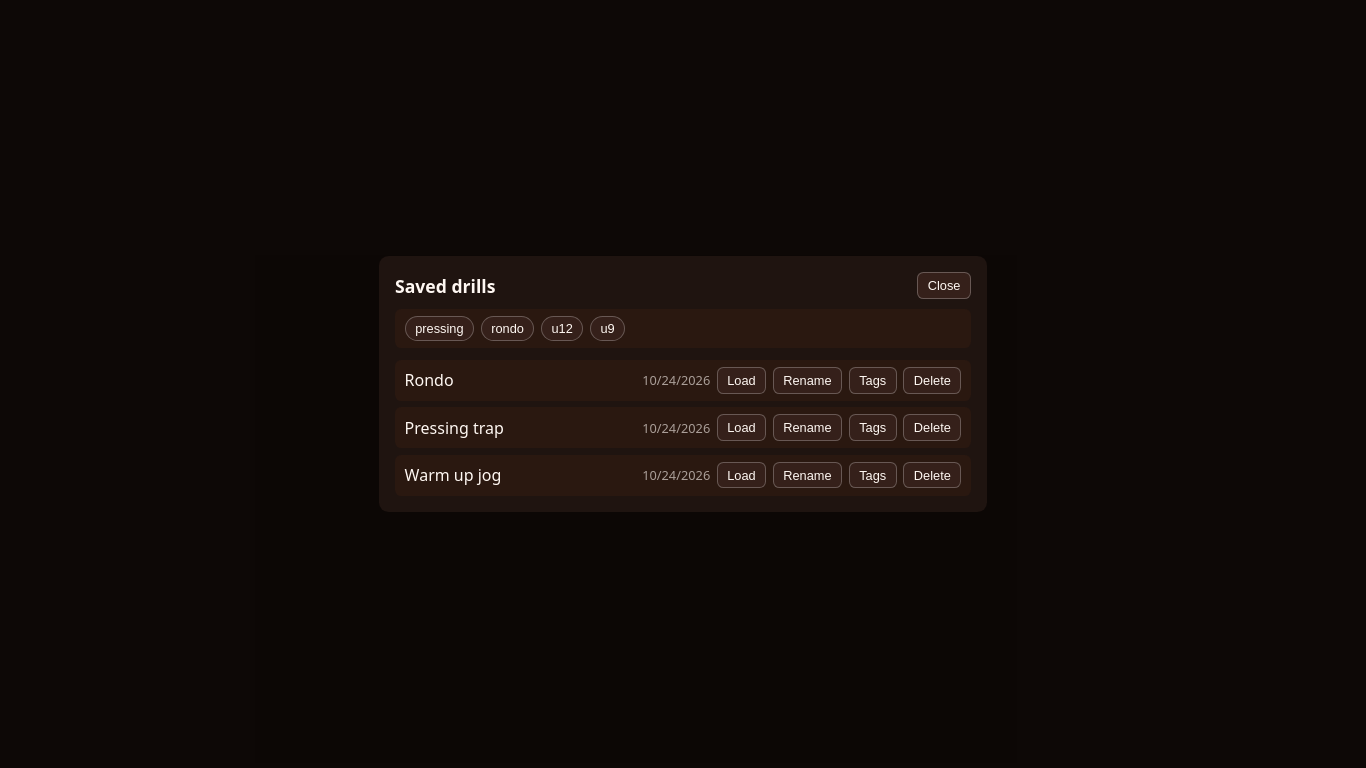
it: tags › keeps only the drill carrying every one of two chosen tags
The width and height of the screenshot is (1366, 768).
What coordinates should you click on to do the following:
click the button "rondo"
I would click on:
 (507, 328)
Its box is [480,316,534,341].
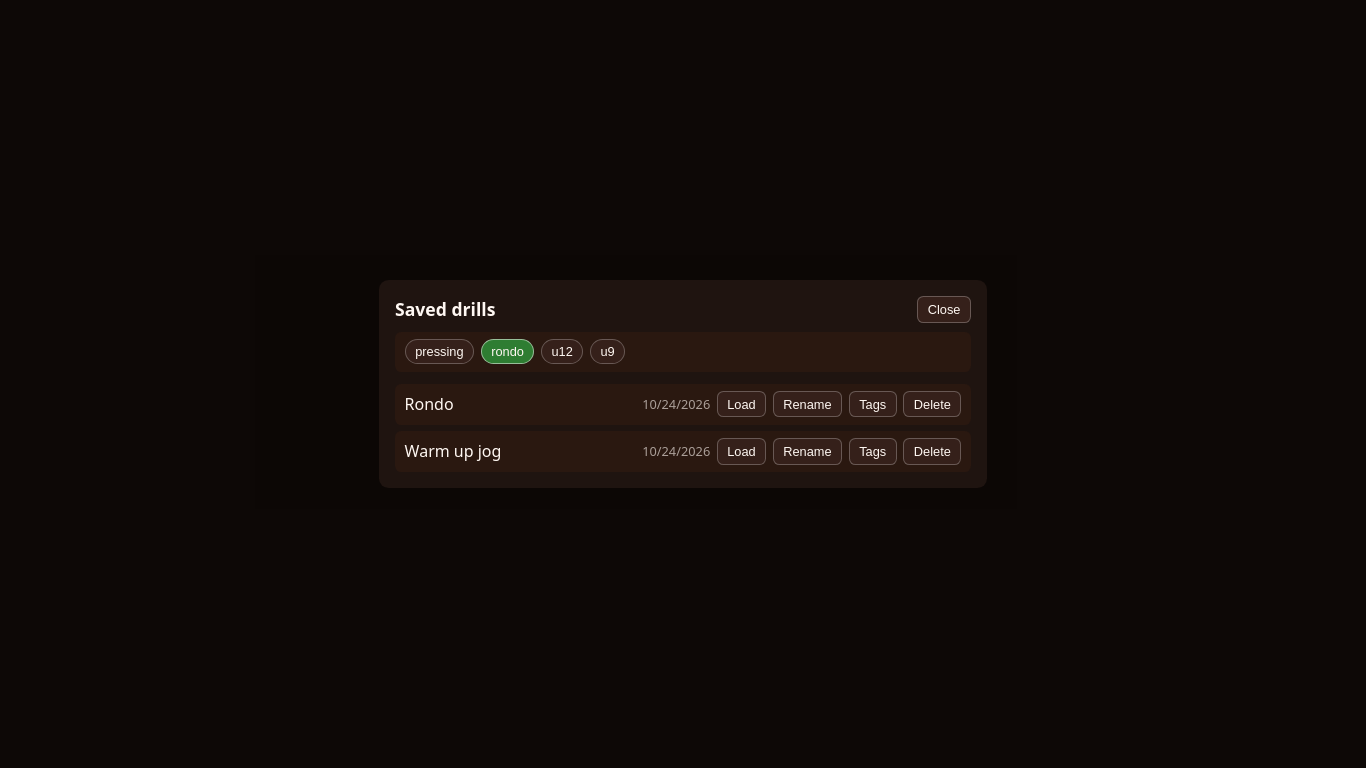
What coordinates should you click on to do the following:
click the button "u12"
I would click on:
 (562, 352)
Its box is [541,339,583,364].
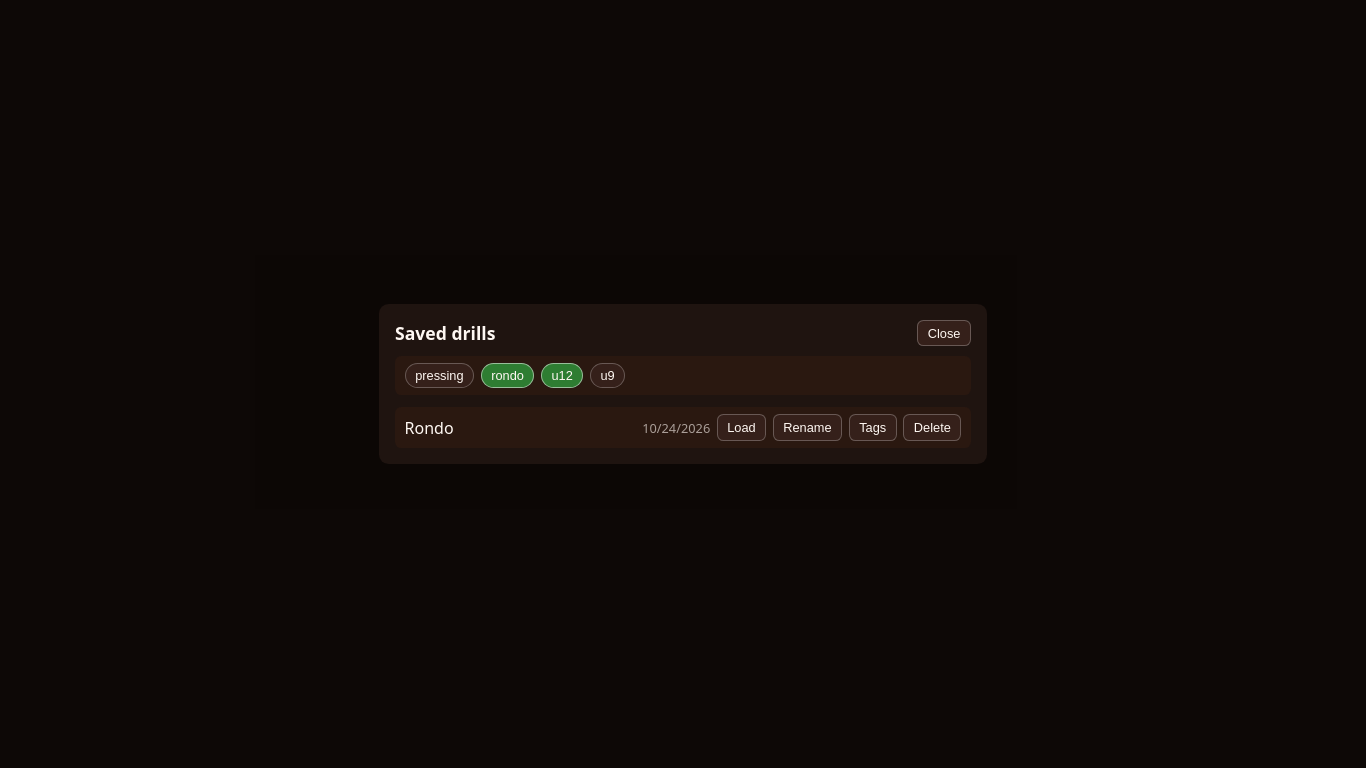
Expected: the list item "Rondo 10/24/2026 Load Rename Tags Delete" is shown, [395,407,971,448]
Result: the number of list items is 1 at [395,407,971,448]
